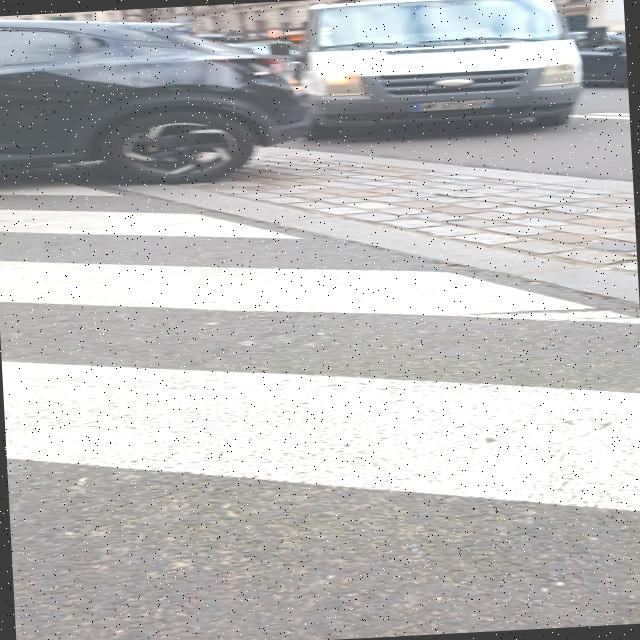Autre: (410, 94, 504, 112)
